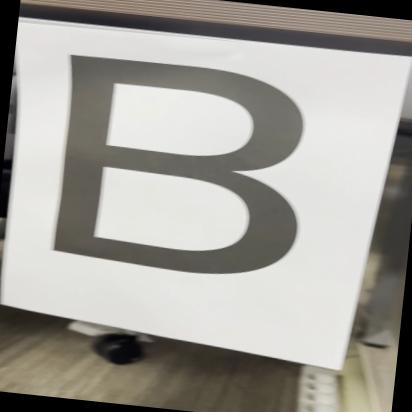seat: (24, 40, 334, 301)
